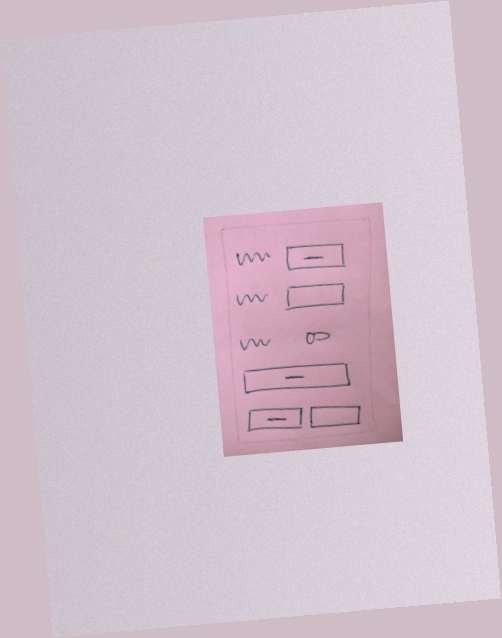button: (240, 360, 354, 397), (283, 237, 350, 277), (244, 401, 308, 437)
switch: (301, 327, 333, 349)
text: (234, 246, 274, 268), (235, 332, 276, 353), (232, 288, 272, 309)
text_input: (281, 279, 349, 313), (307, 400, 365, 432)
